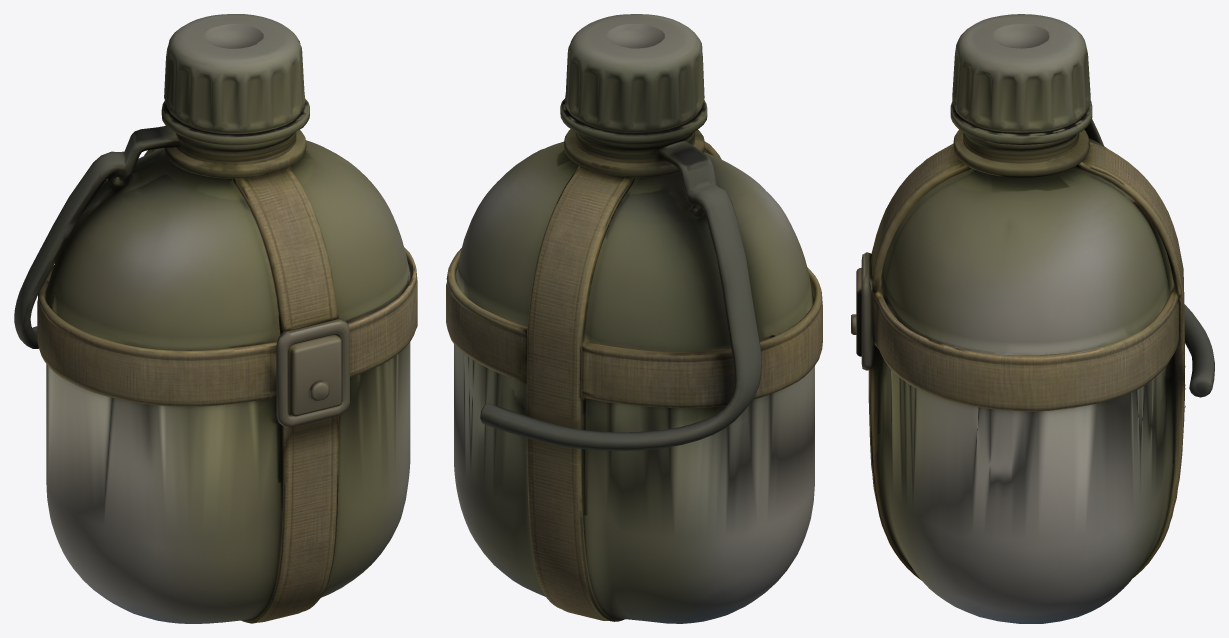
The model's file is Water-bottle.glb.
3 renders of one model, left to right at view 1: azimuth 30°, elevation 25°; view 2: azimuth 150°, elevation 25°; view 3: azimuth 270°, elevation 25°, orthographic.
Visible parts, largest first — view 1: material; view 2: material; view 3: material.
Boxes of the visible parts, x1,y1,x2,y2 form: material: (14, 14, 417, 623); material: (446, 14, 822, 623); material: (851, 14, 1214, 623).
Size of the model in its own units: 1.21 by 1.9 by 1.14.
1 material, 1 textured.
